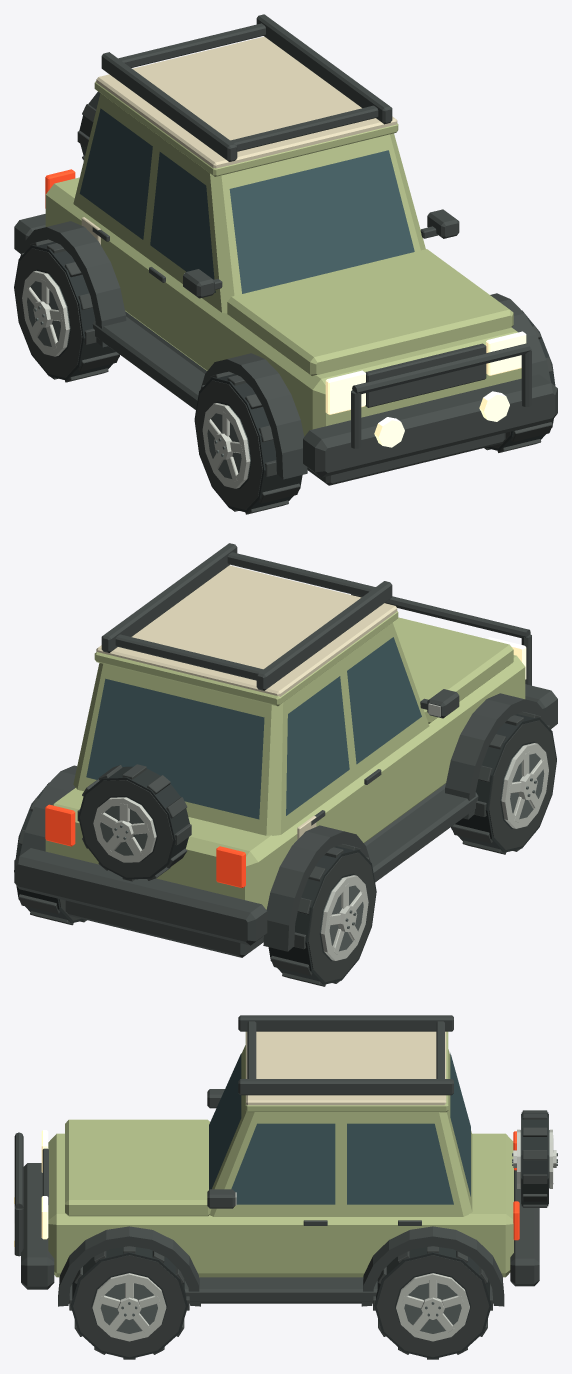
Rendered from dune-scout.gltf.
3 renders of one model, top to bottom at view 1: azimuth 30°, elevation 25°; view 2: azimuth 150°, elevation 25°; view 3: azimuth 270°, elevation 25°, orthographic. The views are drawn at different scales.
Parts seen in each view (by area): view 1: Капот, Лобовое стекло — наклонная плоскость, Накладка крыши, Основной кузов, Стойки и рамки окон, Передний силовой бампер, Расширитель арки (×3), Боковины (×2), Левое заднее стекло, Рейлинг (×2), Левое переднее стекло, Шина (×2) (+14 smaller); view 2: Основной кузов, Накладка крыши, Заднее стекло — наклонная плоскость, Стойки и рамки окон, Задний силовой бампер, Расширитель арки (×3), Боковины (×3), Шина (×4), Капот, Левое заднее стекло, Рейлинг (×2), Левое переднее стекло (+11 smaller); view 3: Основной кузов, Капот, Накладка крыши, Стойки и рамки окон, Боковины (×2), Правое заднее стекло, Правое переднее стекло, Рейлинг (×2), Расширитель арки (×2), Шина (×3), Подножка справа, Обод (×2) (+11 smaller).
Boxes of the visible parts, box(x1,y1,x2,y2) form: Капот: box(227, 249, 513, 375); Лобовое стекло — наклонная плоскость: box(229, 150, 414, 293); Накладка крыши: box(96, 36, 397, 168); Основной кузов: box(45, 177, 521, 436); Стойки и рамки окон: box(73, 93, 425, 313); Передний силовой бампер: box(303, 374, 557, 477); Расширитель арки (×3): box(20, 221, 550, 479); Боковины (×2): box(15, 248, 262, 509); Левое заднее стекло: box(79, 108, 152, 239); Рейлинг (×2): box(101, 14, 392, 161); Левое переднее стекло: box(150, 152, 215, 292); Шина (×2): box(14, 242, 302, 512); Основной кузов: box(45, 655, 525, 909); Накладка крыши: box(96, 565, 397, 696); Заднее стекло — наклонная плоскость: box(86, 678, 264, 819); Стойки и рамки окон: box(73, 622, 429, 835); Задний силовой бампер: box(14, 848, 267, 945); Расширитель арки (×3): box(20, 693, 550, 951); Боковины (×3): box(79, 720, 556, 982); Шина (×4): box(14, 714, 556, 984); Капот: box(393, 617, 513, 723); Левое заднее стекло: box(286, 676, 349, 815); Рейлинг (×2): box(101, 543, 392, 690); Левое переднее стекло: box(347, 637, 421, 764); Основной кузов: box(48, 1133, 513, 1277); Капот: box(65, 1119, 211, 1216); Накладка крыши: box(246, 1031, 446, 1105); Стойки и рамки окон: box(209, 1045, 472, 1216); Боковины (×2): box(73, 1255, 489, 1357); Правое заднее стекло: box(347, 1123, 453, 1204); Правое переднее стекло: box(231, 1123, 335, 1204); Рейлинг (×2): box(238, 1015, 453, 1095); Расширитель арки (×2): box(58, 1226, 504, 1306); Шина (×3): box(70, 1112, 548, 1359); Подножка справа: box(184, 1278, 377, 1302); Обод (×2): box(92, 1273, 469, 1341).
Bounding box in the file's own units: 2.38 × 2.18 × 4.26.
